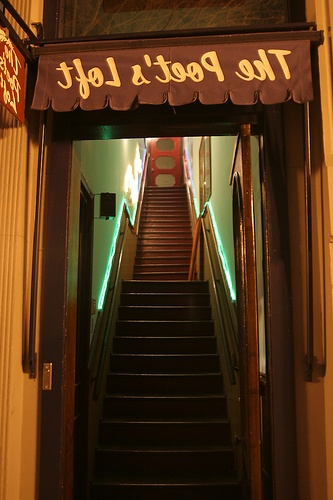stairs_up: (110, 183, 221, 490)
